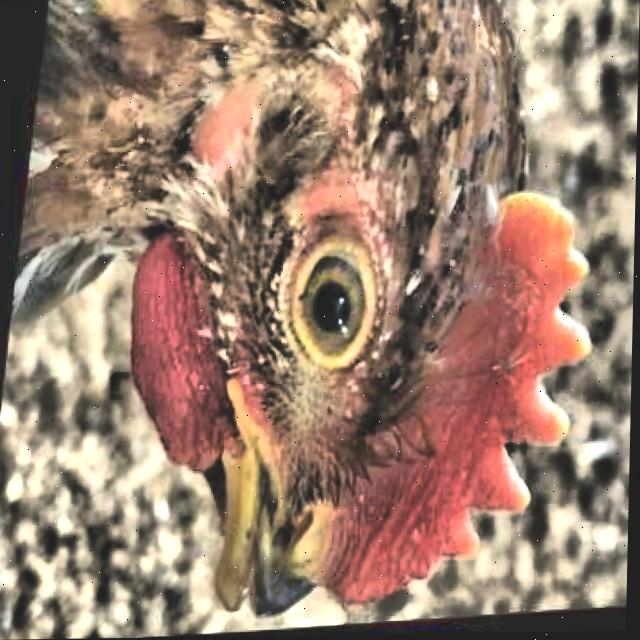Healthy: (275, 215, 390, 389)
